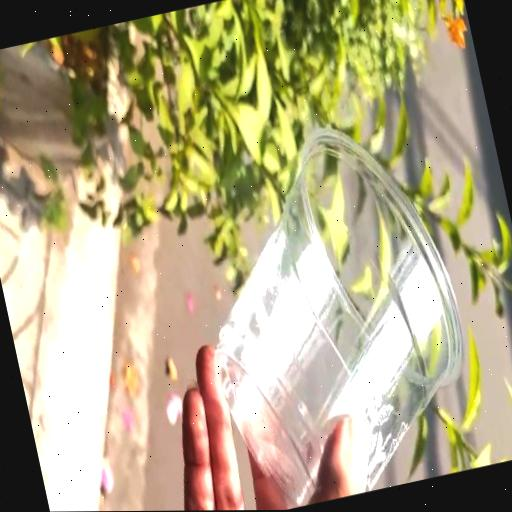ly_giay: (215, 129, 462, 509)
